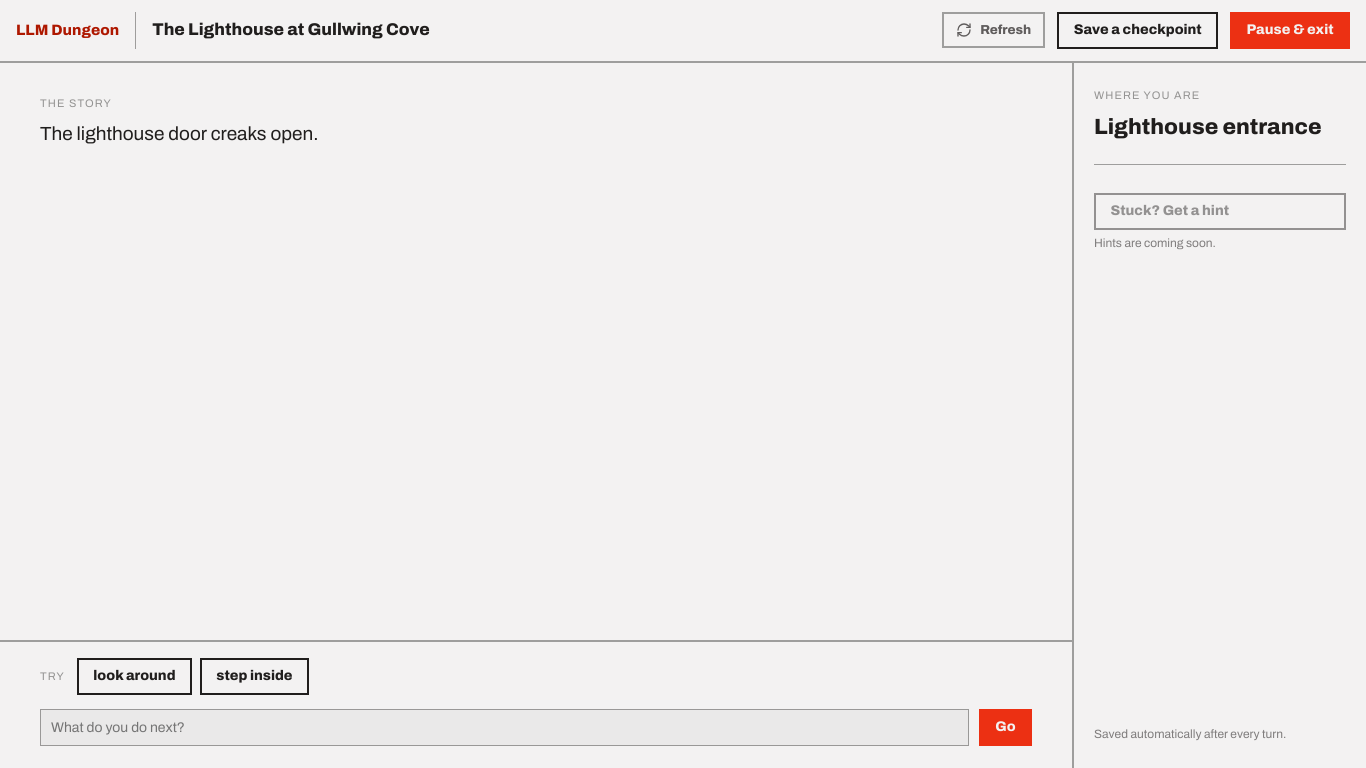
Test: Play surface inside the /game layout (FR-016, SC-013) › leaves no way out of an active session that skips the confirmation (SC-013)
The image size is (1366, 768).
Click the button "LLM Dungeon": point(68, 30) [16,22,119,38]
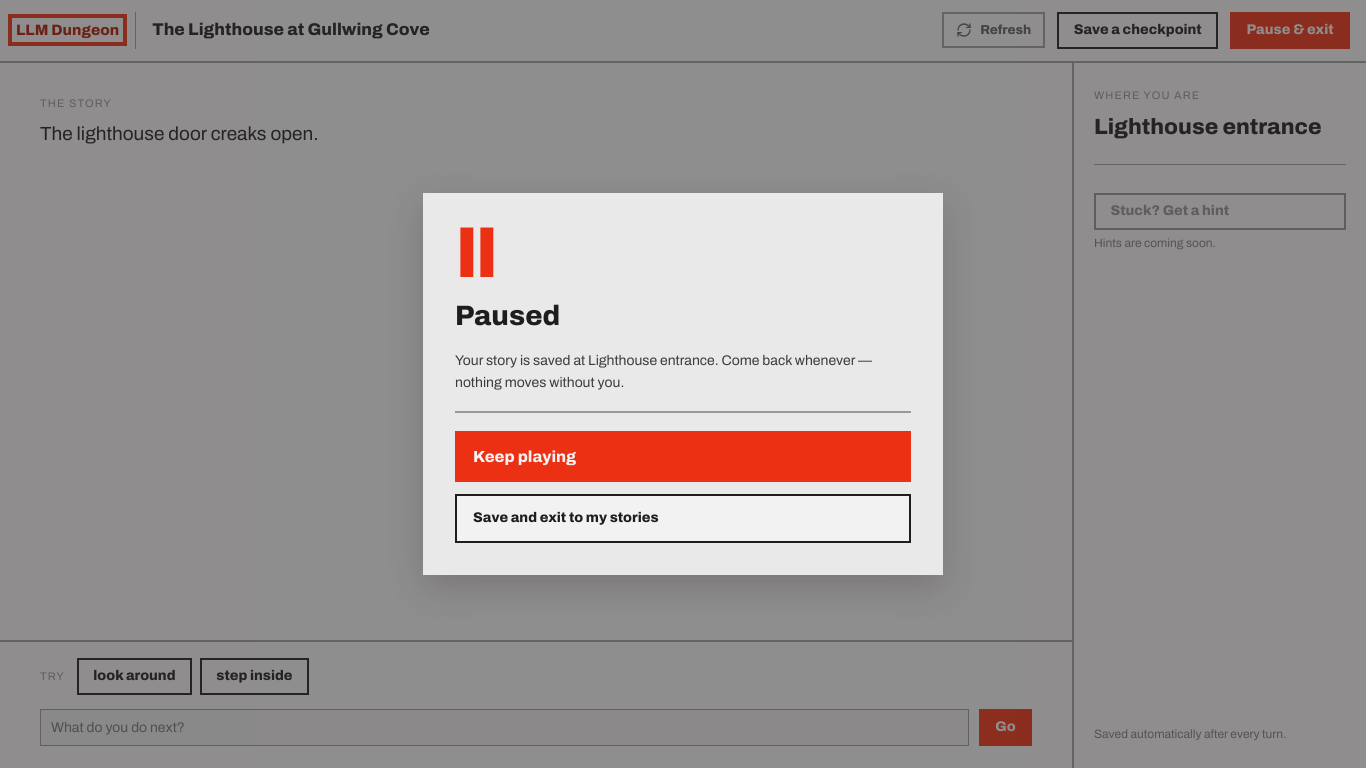
Expected: the dialog is shown, [423,193,943,575]
